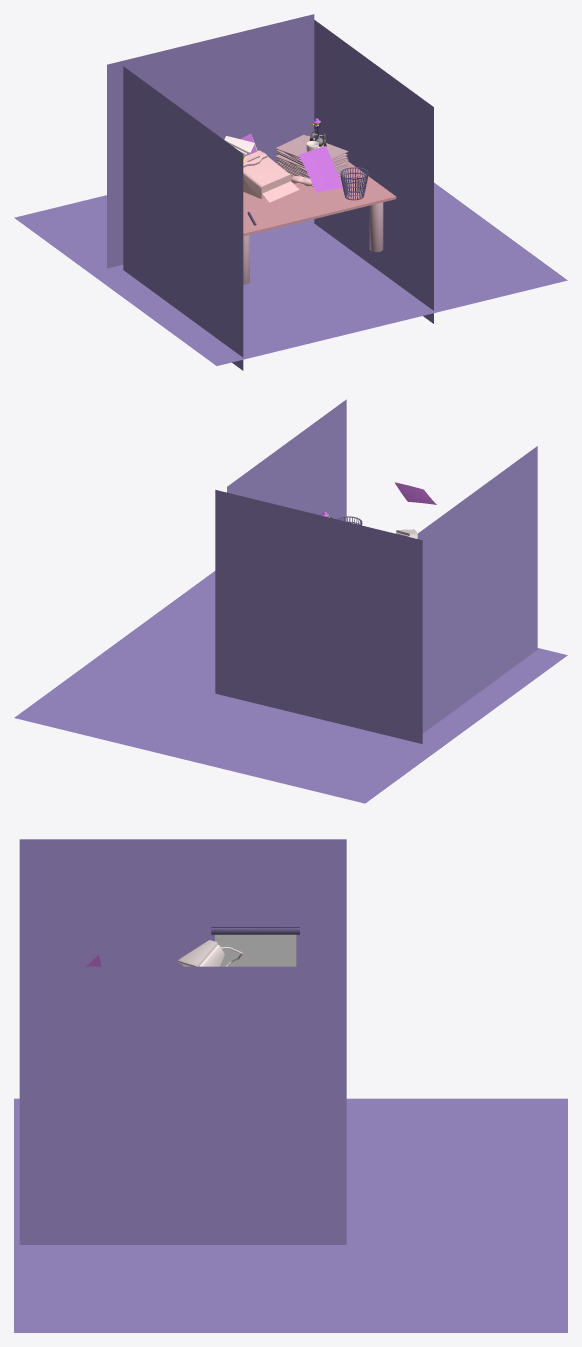
The model's file is desksetup.fbx.
3 renders of one model, top to bottom at view 1: azimuth 30°, elevation 25°; view 2: azimuth 150°, elevation 25°; view 3: azimuth 270°, elevation 25°, orthographic. The views are drawn at different scales.
Parts seen in each view (by area): view 1: Plane.001, Plane.002, Plane.003, Plane.004, Plane, Cube, Plane.021, paper, Cylinder.001, Cylinder.003; view 2: Plane.004, Plane.001, Plane.002, Plane.003; view 3: Plane.003, Plane.001, Plane.002, Plane.008, Cylinder.005, Cube.007.
Boxes of the visible parts, <box> form: Plane.001: <box>14,182,567,365</box>; Plane.002: <box>123,66,243,370</box>; Plane.003: <box>314,20,433,323</box>; Plane.004: <box>107,14,314,268</box>; Plane: <box>243,161,396,236</box>; Cube: <box>243,137,299,202</box>; Plane.021: <box>275,134,348,186</box>; paper: <box>299,146,342,192</box>; Cylinder.001: <box>369,202,383,252</box>; Cylinder.003: <box>340,167,368,200</box>; Plane.004: <box>215,490,422,743</box>; Plane.001: <box>14,571,567,803</box>; Plane.002: <box>417,446,537,733</box>; Plane.003: <box>227,399,346,521</box>; Plane.003: <box>19,966,346,1244</box>; Plane.001: <box>14,1098,567,1332</box>; Plane.002: <box>19,839,346,966</box>; Plane.008: <box>215,934,296,966</box>; Cylinder.005: <box>178,940,224,966</box>; Cube.007: <box>211,927,299,934</box>.
Size of the model in its own units: 1894 by 1118 by 1894.
12 materials, 1 textured.
